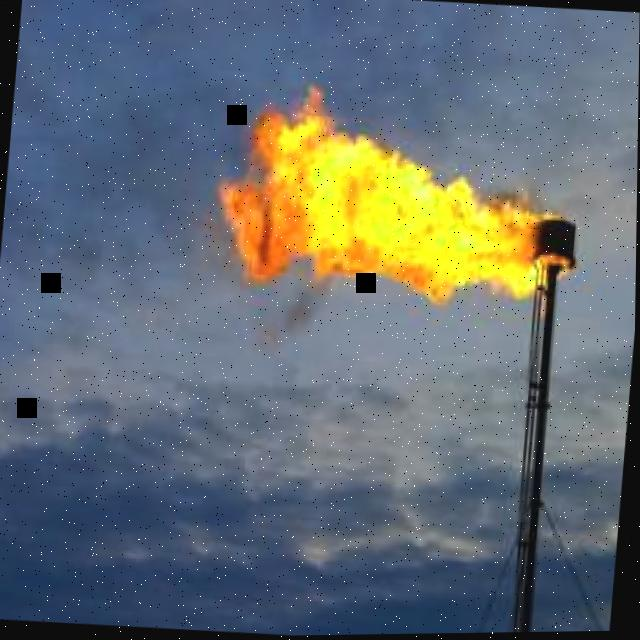fire: (219, 87, 568, 305)
